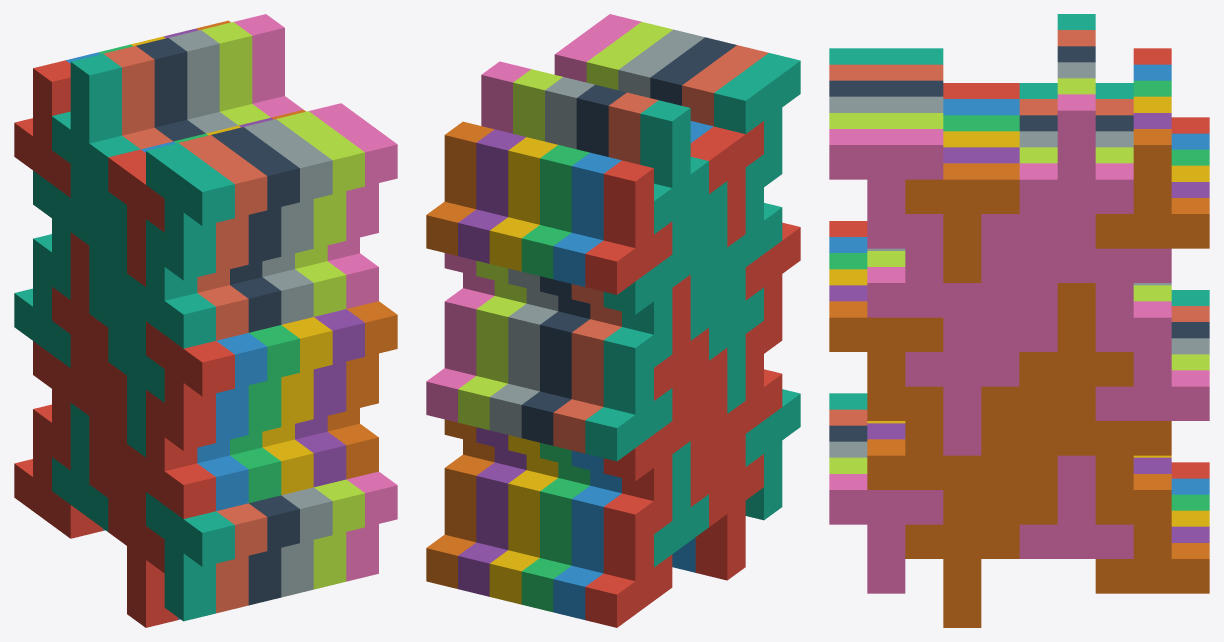
File: tiling.obj
3 views of the same model, side by side, from view 1: azimuth 30°, elevation 25°; view 2: azimuth 150°, elevation 25°; view 3: azimuth 270°, elevation 25° (orthographic). The views are drawn at different scales.
Visible parts, largest first — view 1: copy_115, copy_31, copy_103, copy_109, copy_49, copy_55, copy_117, copy_119, copy_120, copy_116, copy_118, copy_13 (+38 smaller); view 2: copy_1, copy_7, copy_13, copy_31, copy_115, copy_85, copy_67, copy_61, copy_14, copy_2, copy_8, copy_5 (+44 smaller); view 3: copy_36, copy_120, copy_6, copy_18, copy_102, copy_12, copy_108, copy_114, copy_60, copy_54, copy_30, copy_42 (+50 smaller).
Part boxes in pixels (bbox=[...]): copy_115: bbox=[146, 143, 234, 280]; copy_31: bbox=[52, 54, 140, 190]; copy_103: bbox=[146, 492, 234, 621]; copy_109: bbox=[146, 321, 234, 450]; copy_49: bbox=[127, 390, 215, 518]; copy_55: bbox=[127, 219, 215, 348]; copy_117: bbox=[211, 127, 299, 264]; copy_119: bbox=[276, 111, 364, 248]; copy_120: bbox=[309, 103, 397, 240]; copy_116: bbox=[179, 135, 267, 272]; copy_118: bbox=[244, 119, 332, 256]; copy_13: bbox=[14, 60, 70, 197]; copy_1: bbox=[585, 493, 672, 627]; copy_7: bbox=[585, 327, 672, 461]; copy_13: bbox=[585, 160, 672, 294]; copy_31: bbox=[640, 100, 708, 234]; copy_115: bbox=[714, 53, 800, 186]; copy_85: bbox=[695, 454, 763, 580]; copy_67: bbox=[603, 241, 690, 367]; copy_61: bbox=[603, 408, 690, 533]; copy_14: bbox=[553, 152, 621, 286]; copy_2: bbox=[553, 485, 621, 619]; copy_8: bbox=[553, 319, 621, 453]; copy_5: bbox=[458, 462, 526, 596]; copy_36: bbox=[1019, 94, 1133, 213]; copy_120: bbox=[829, 129, 943, 248]; copy_6: bbox=[1095, 474, 1209, 593]; copy_18: bbox=[1095, 129, 1209, 248]; copy_102: bbox=[905, 163, 1019, 282]; copy_12: bbox=[1095, 301, 1209, 420]; copy_108: bbox=[829, 474, 943, 593]; copy_114: bbox=[829, 301, 943, 420]; copy_60: bbox=[867, 214, 981, 317]; copy_54: bbox=[867, 386, 981, 489]; copy_30: bbox=[1019, 283, 1133, 386]; copy_42: bbox=[943, 421, 1057, 524].
Bounding box in the file's own units: 6 × 15 × 10.
